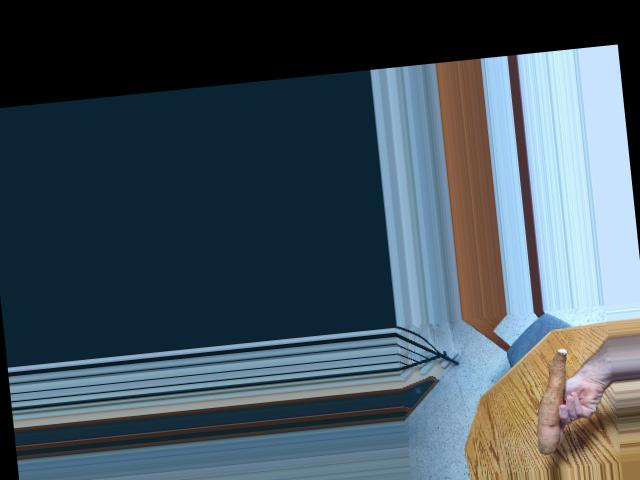sweet_potato: (525, 346, 581, 452)
